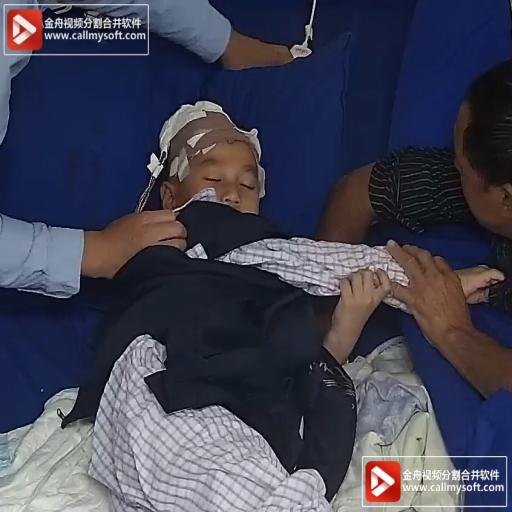Seizure: (182, 115, 276, 211)
